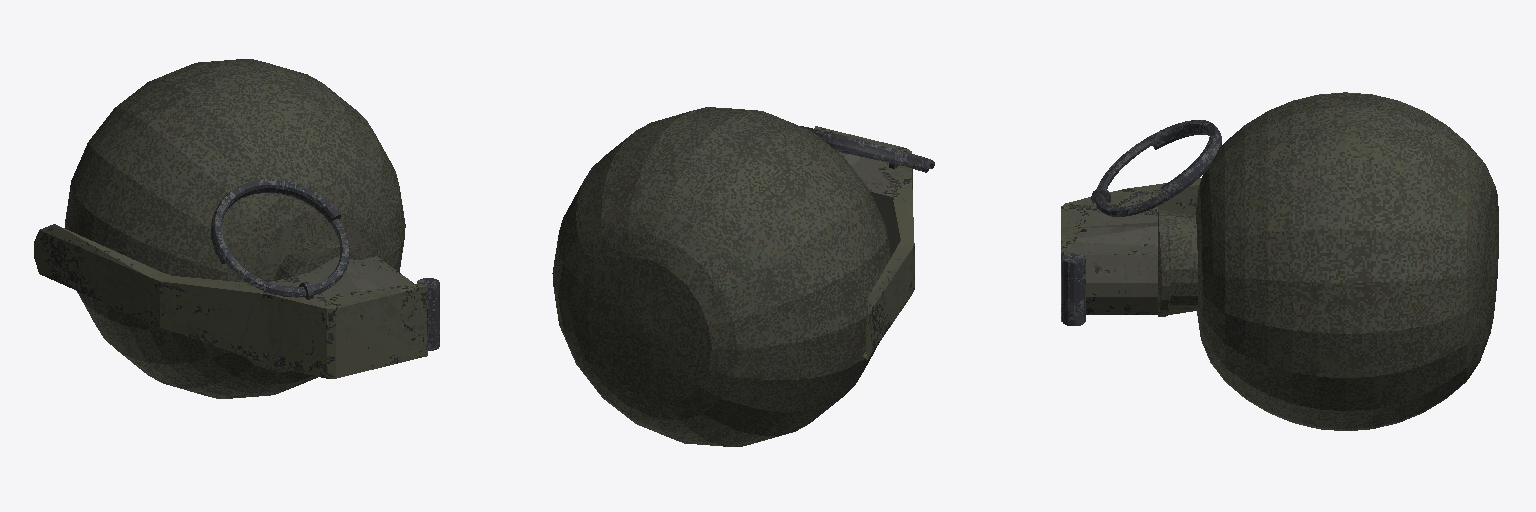
3 views of the same model, side by side, from view 1: azimuth 30°, elevation 25°; view 2: azimuth 150°, elevation 25°; view 3: azimuth 270°, elevation 25° (orthographic).
Visible parts, largest first — view 1: mtl_weapon_m67_grenade; view 2: mtl_weapon_m67_grenade; view 3: mtl_weapon_m67_grenade.
Boxes of the visible parts, <box> form: mtl_weapon_m67_grenade: <box>34,59,439,398</box>; mtl_weapon_m67_grenade: <box>552,107,934,446</box>; mtl_weapon_m67_grenade: <box>1061,92,1498,430</box>.
Size of the model in its own units: 8.12 by 7.51 by 9.64.
Materials: 1 (1 with a texture image).